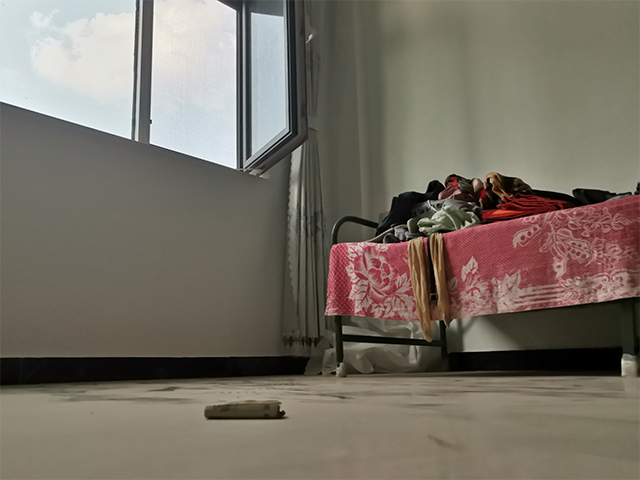curtain: (279, 1, 337, 350)
